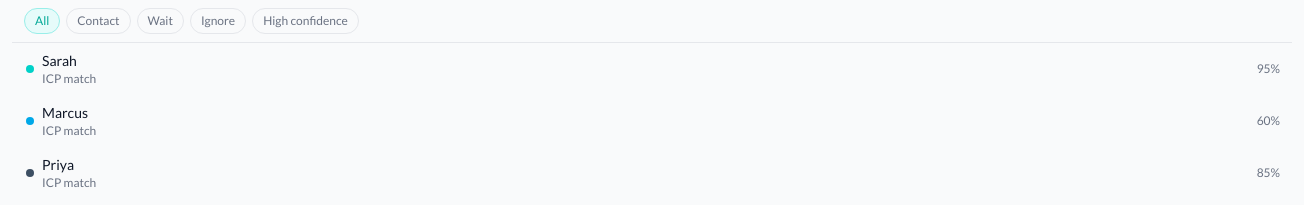
Test: QueuePane › filters to a single bucket when its chip is clicked
The width and height of the screenshot is (1304, 205).
Click the button "Wait" at (160,21), box [136,8,184,34]
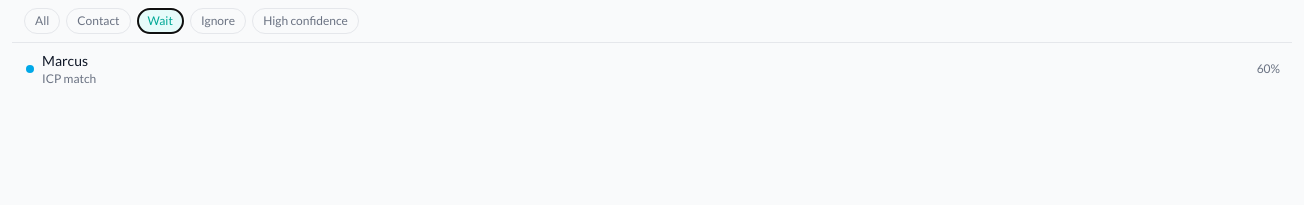
Expected: the text "Marcus" is shown, [42,52,88,69]
Expected: the number of list items is 1, [12,43,1292,95]
